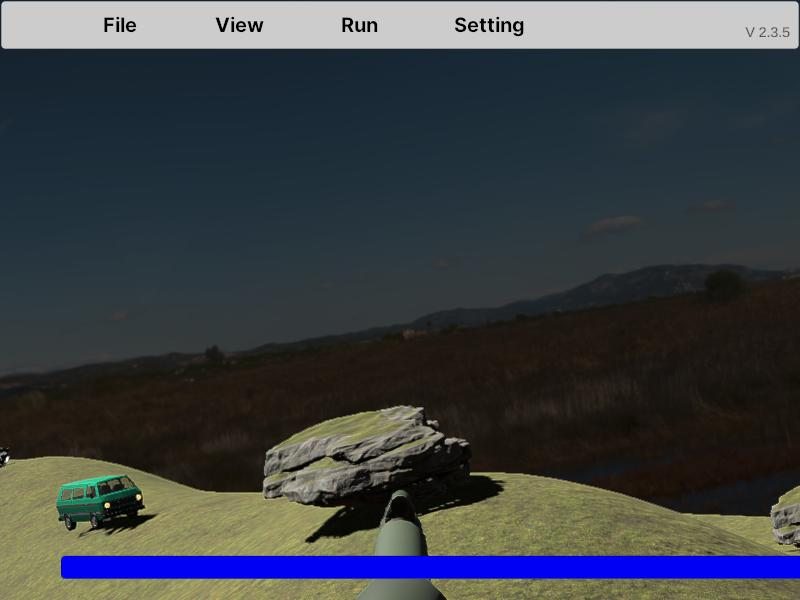car: (56, 475, 144, 531)
